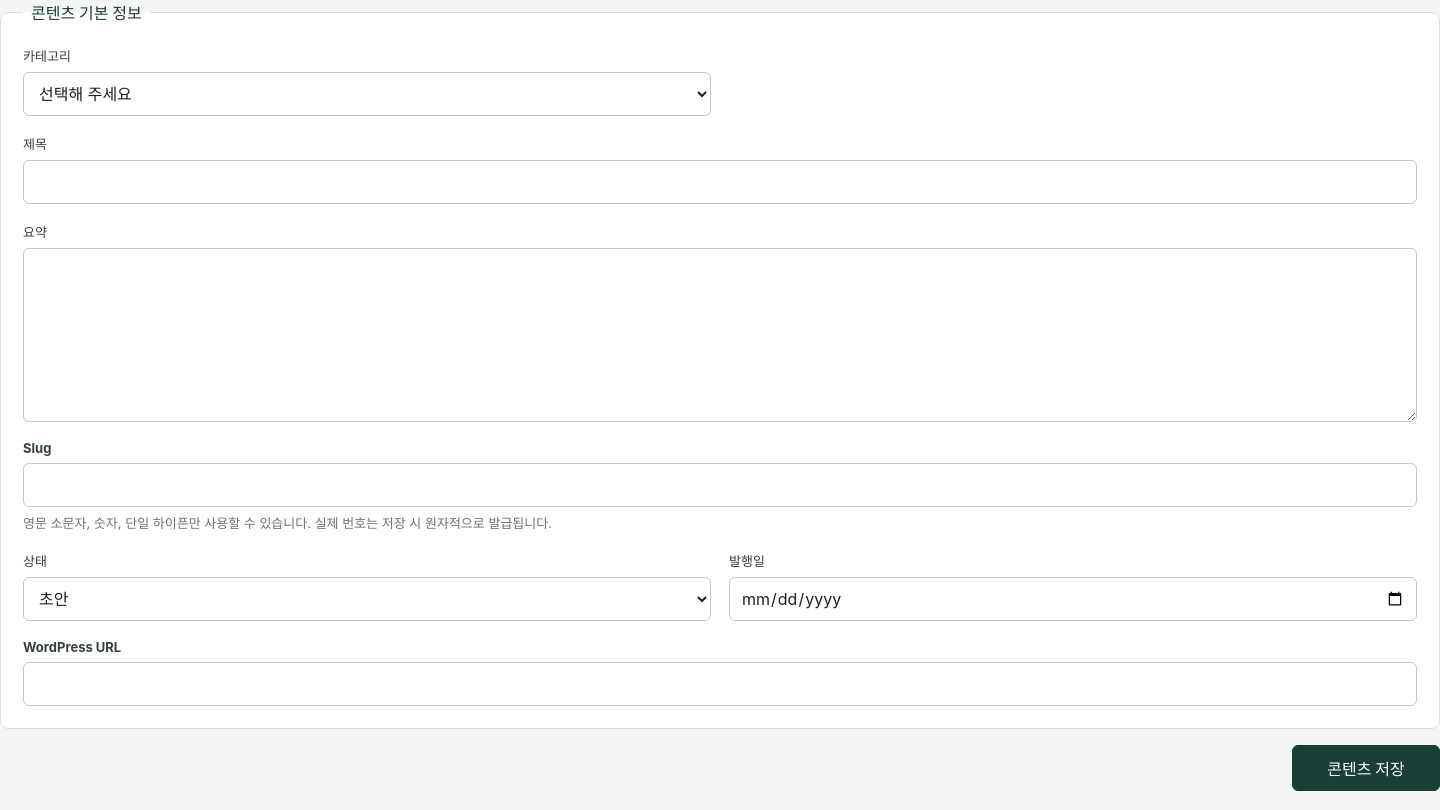
PostForm › shows required field errors next to the inputs
The image size is (1440, 810).
(page scrolled)
Step 1. Click the button "콘텐츠 저장" → [1366, 768], box [1292,745,1439,791]
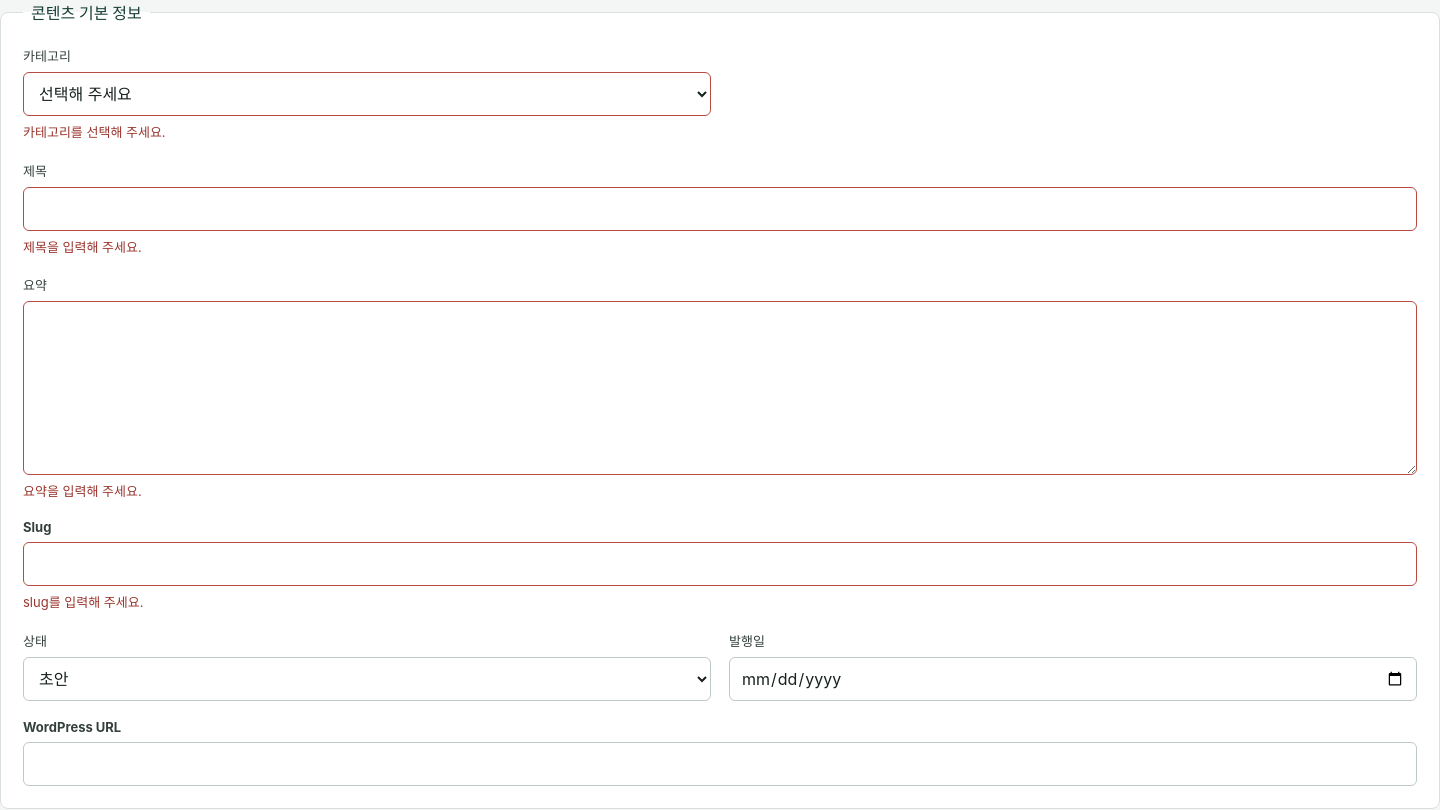
Check: the text "카테고리를 선택해 주세요." is shown, box [23,124,166,140]
Check: the text "제목을 입력해 주세요." is shown, box [23,238,142,254]
Check: the text "요약을 입력해 주세요." is shown, box [23,483,142,499]
